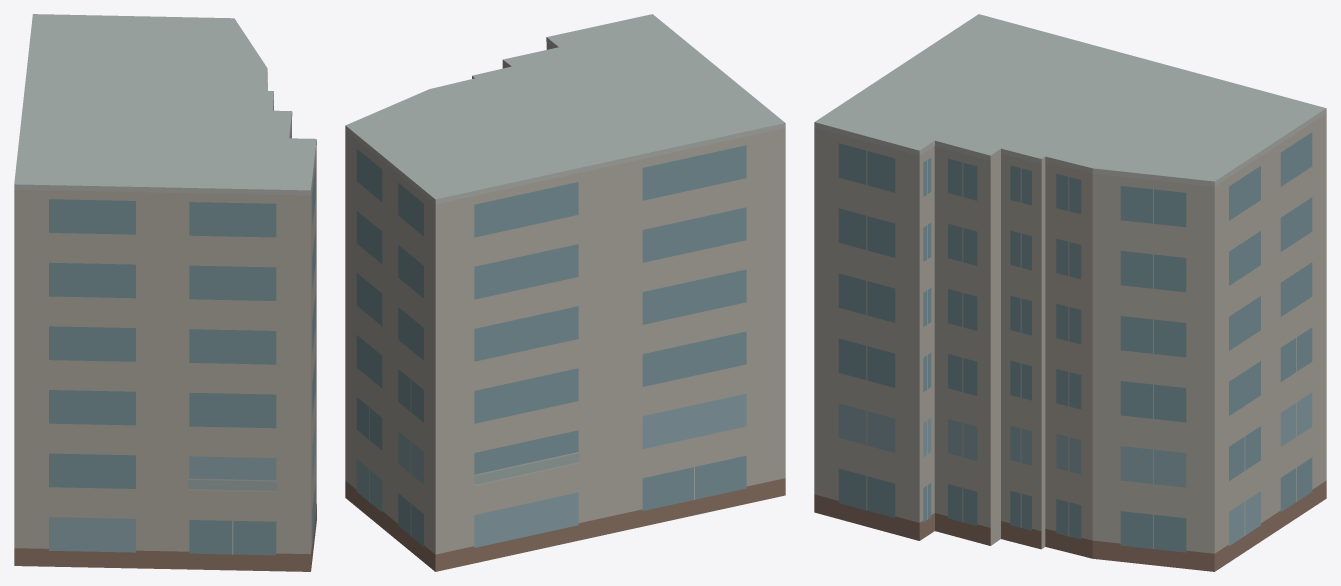
Rendered from survey-upis-32739932.glb.
3 views of the same model, side by side, from view 1: azimuth 30°, elevation 25°; view 2: azimuth 150°, elevation 25°; view 3: azimuth 270°, elevation 25° (orthographic). The views are drawn at different scales.
Visible parts, largest first — view 1: survey-upis-32739932.tmp; view 2: survey-upis-32739932.tmp; view 3: survey-upis-32739932.tmp.
Boxes of the visible parts, x1,y1,x2,y2 form: survey-upis-32739932.tmp: (14,14,316,571); survey-upis-32739932.tmp: (345,14,785,571); survey-upis-32739932.tmp: (814,14,1326,571).
Size of the model in its own units: 16.85 by 18.3 by 21.77.
